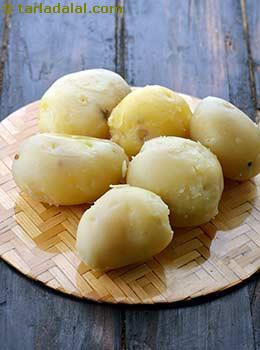boiled potatoes: (17, 130, 123, 196), (45, 67, 128, 149), (90, 186, 173, 268), (142, 139, 219, 224), (193, 93, 259, 179), (121, 86, 185, 152)
